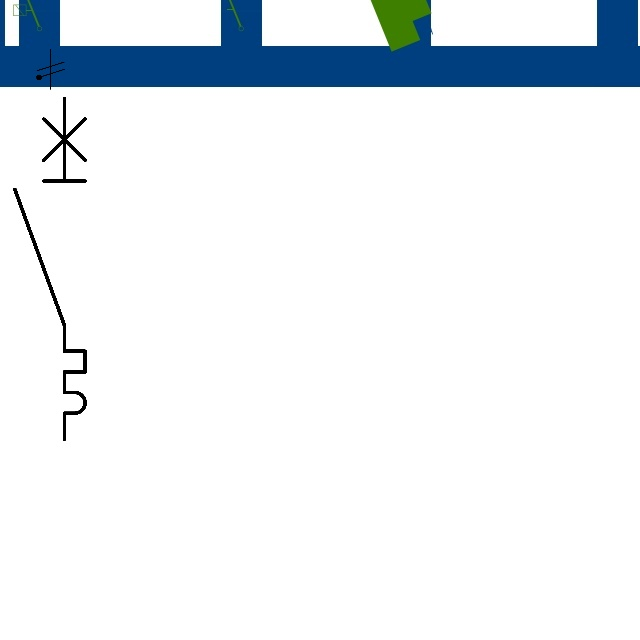interruptor_termomagnetico: (6, 89, 94, 447)
